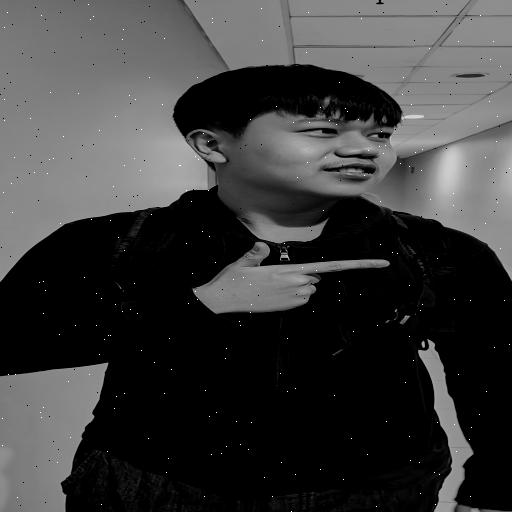next: (187, 237, 402, 321)
